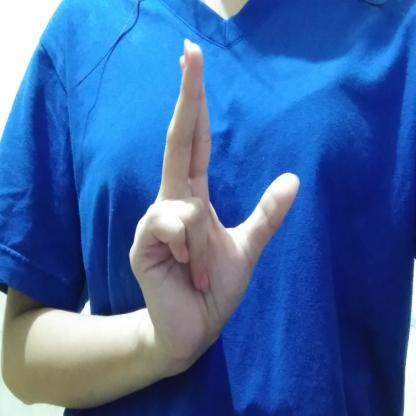who: (127, 35, 306, 376)
